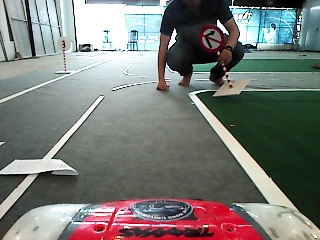ban: (198, 24, 225, 52)
